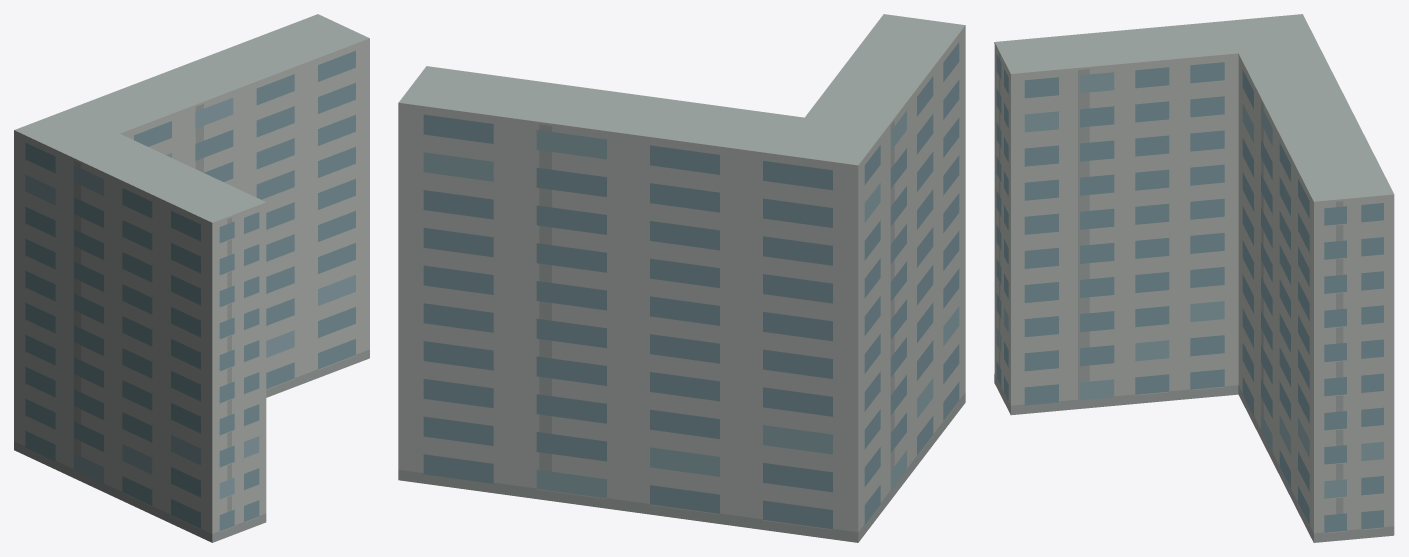
Rendered from residential-35160e74-4a67-4bd4-8504-8896fefa57d2.glb.
3 views of the same model, side by side, from view 1: azimuth 30°, elevation 25°; view 2: azimuth 150°, elevation 25°; view 3: azimuth 270°, elevation 25° (orthographic). The views are drawn at different scales.
Parts seen in each view (by area): view 1: residential-35160e74-4a67-4bd4-8504-8896fefa57d2.tmp; view 2: residential-35160e74-4a67-4bd4-8504-8896fefa57d2.tmp; view 3: residential-35160e74-4a67-4bd4-8504-8896fefa57d2.tmp.
Part boxes in pixels (x1,y1,x2,y2): residential-35160e74-4a67-4bd4-8504-8896fefa57d2.tmp: [14, 14, 369, 542]; residential-35160e74-4a67-4bd4-8504-8896fefa57d2.tmp: [398, 14, 965, 542]; residential-35160e74-4a67-4bd4-8504-8896fefa57d2.tmp: [994, 14, 1394, 542].
Bounding box in the file's own units: 44.85 × 38 × 40.38.
